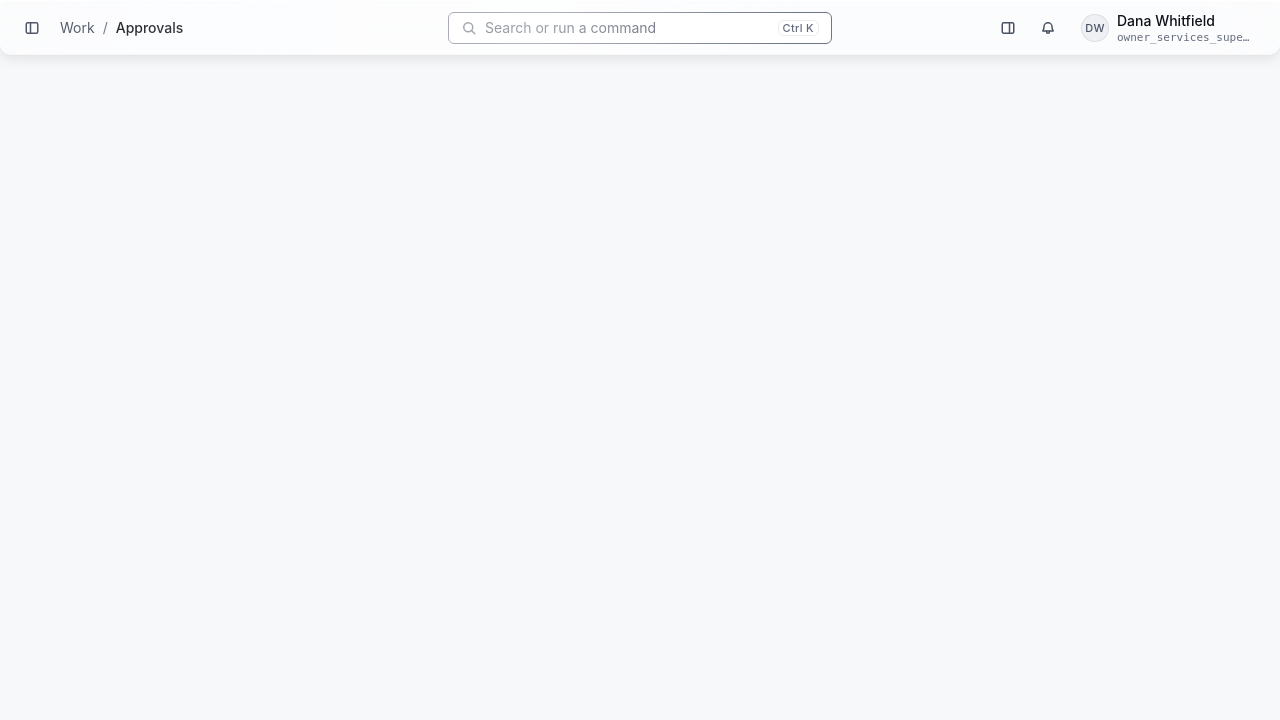
the top bar › passes an auditor's read-only state through to the account panel
This screenshot has width=1280, height=720.
Click the button with aria-label "Signed in as" at (1168, 28), box 1072,6 -> 1264,50
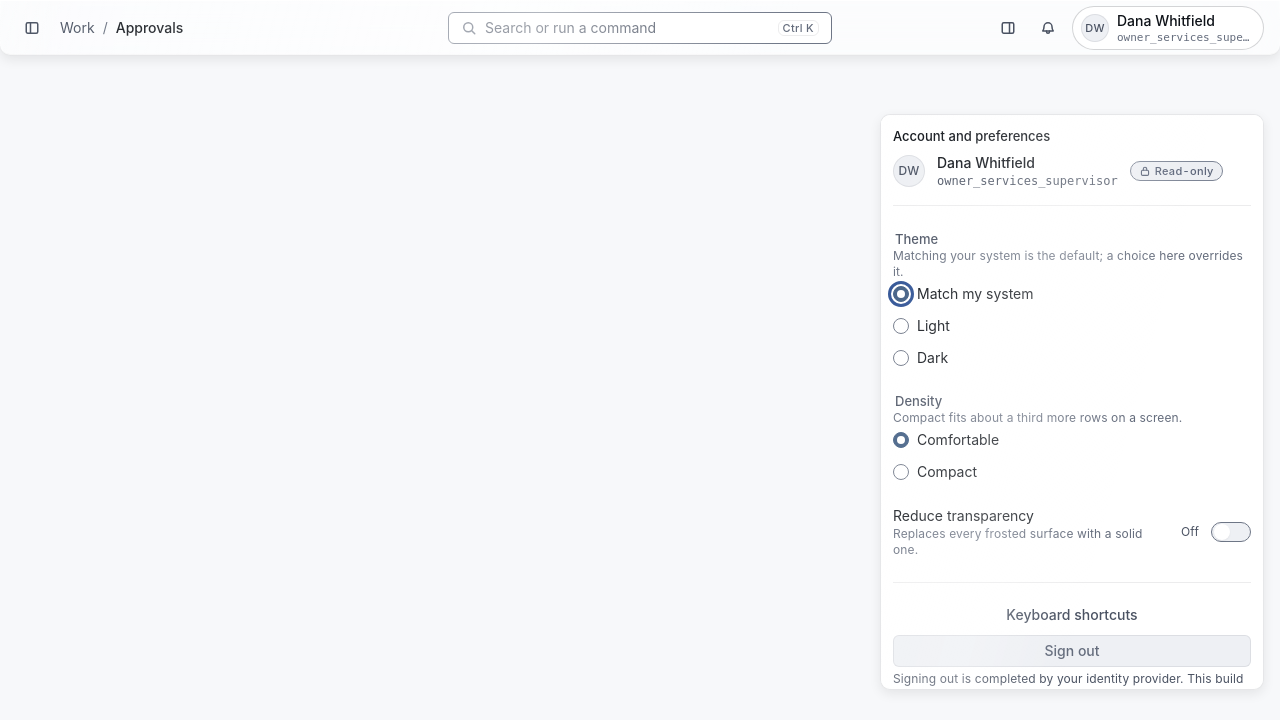
Expected: the text "Read-only" is shown, 1155,164 -> 1214,178
